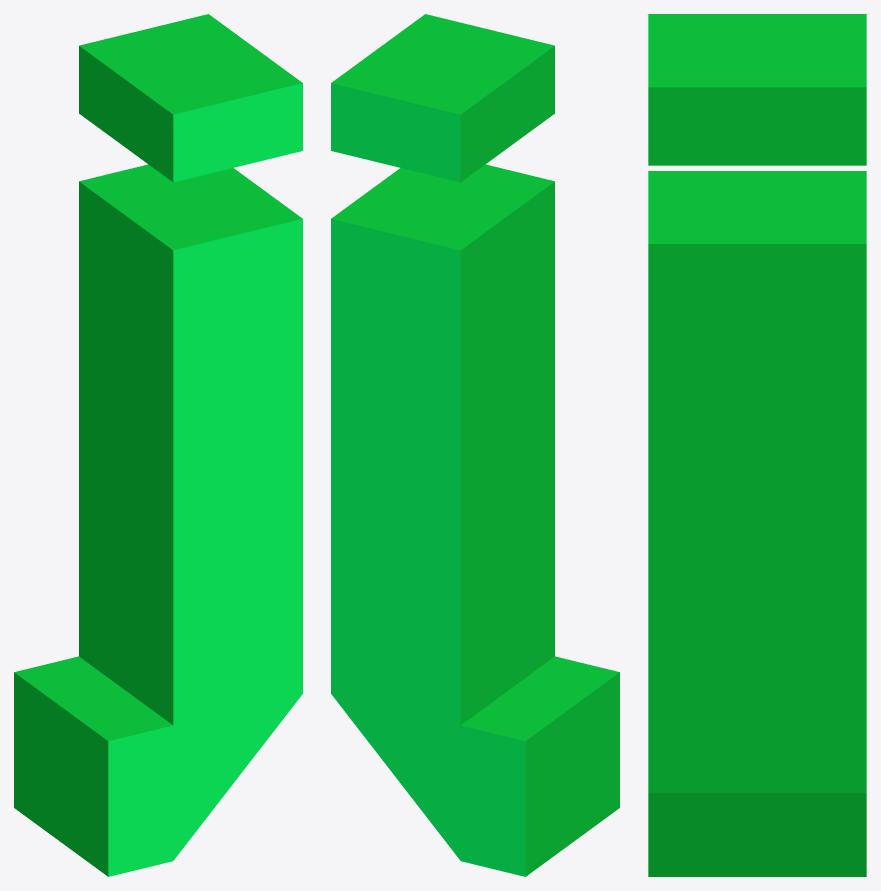
The model's file is J_DeltaBlock_Green.glb.
3 renders of one model, left to right at view 1: azimuth 30°, elevation 25°; view 2: azimuth 150°, elevation 25°; view 3: azimuth 270°, elevation 25°, orthographic. The views are drawn at different scales.
Visible parts, largest first — view 1: j_DeltaBlock_Green; view 2: j_DeltaBlock_Green; view 3: j_DeltaBlock_Green.
Boxes of the visible parts, x1,y1,x2,y2 form: j_DeltaBlock_Green: (14,14,302,876); j_DeltaBlock_Green: (331,14,619,876); j_DeltaBlock_Green: (648,14,866,876).
Size of what is drawn, in the model's own units: 0.0536 by 0.1964 by 0.045.
2 materials, 2 textured.
